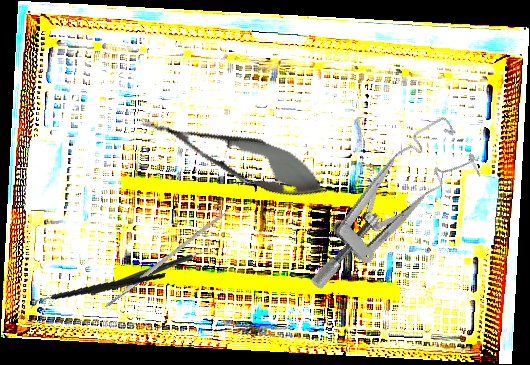Chopper: (29, 253, 166, 330), (91, 241, 211, 296)
Micro Scissor: (133, 98, 336, 212)
Scalpel Handle: (101, 209, 228, 311)
Speculum: (272, 111, 495, 294)
